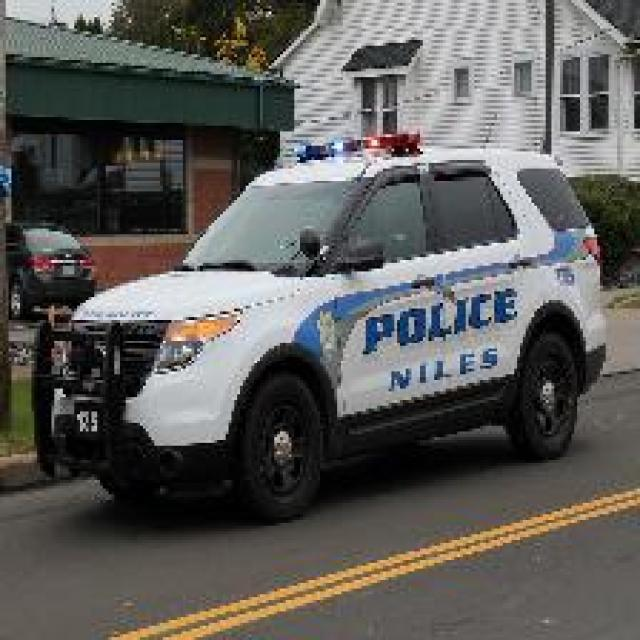emergency: (44, 128, 606, 512)
